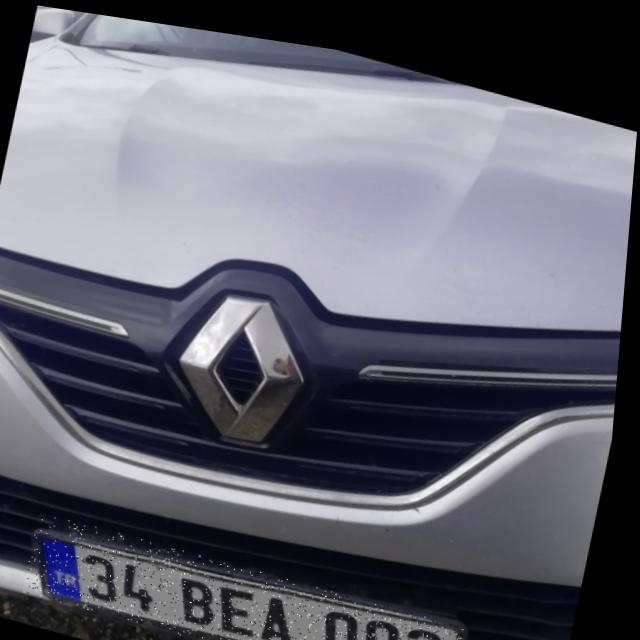license_plate: (28, 507, 476, 640)
